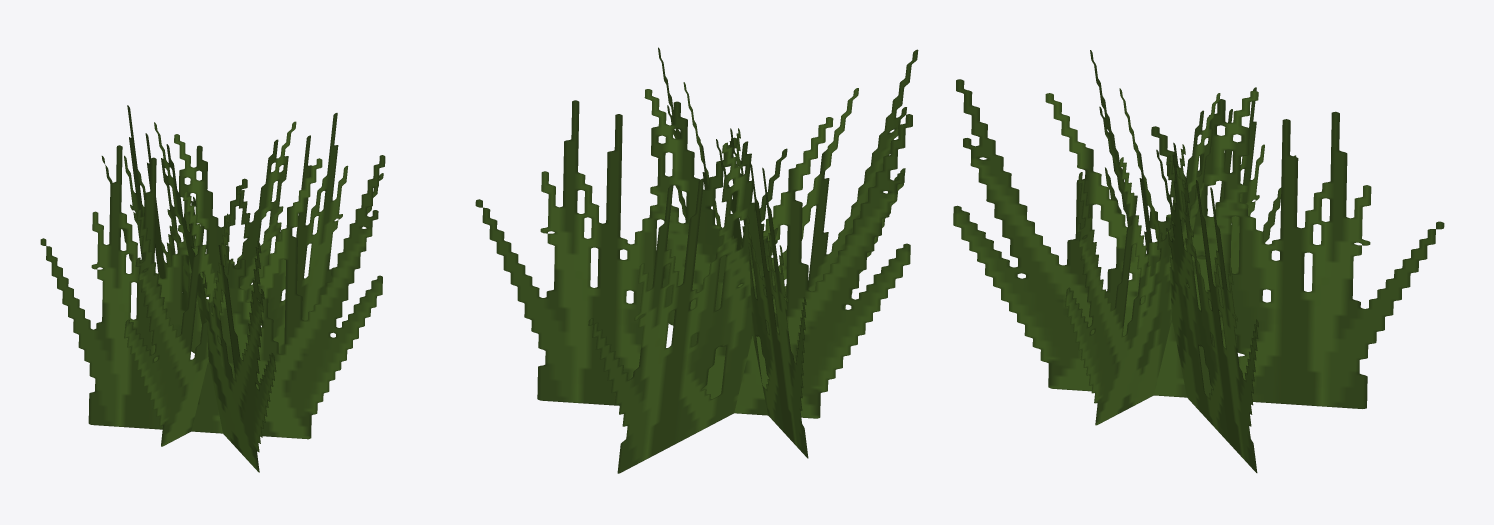
The model's file is tuft_a.glb.
3 renders of one model, left to right at view 1: azimuth 30°, elevation 25°; view 2: azimuth 150°, elevation 25°; view 3: azimuth 270°, elevation 25°, orthographic. The views are drawn at different scales.
Parts seen in each view (by area): view 1: town_tuft; view 2: town_tuft; view 3: town_tuft.
Part boxes in pixels (bbox=[...]): town_tuft: bbox=[40, 105, 385, 472]; town_tuft: bbox=[475, 47, 918, 473]; town_tuft: bbox=[953, 50, 1444, 472].
Bounding box in the file's own units: 0.2615 × 0.2 × 0.3002.
Materials: 1 (1 with a texture image).
